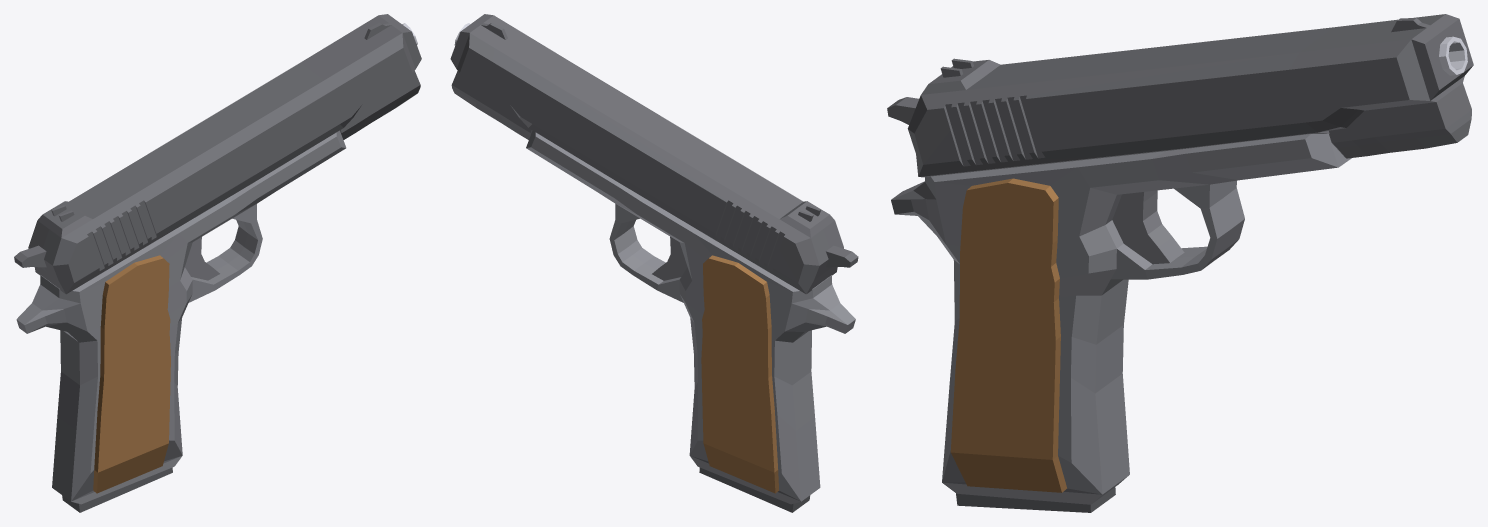
Rendered from pistol.glb.
3 views of the same model, side by side, from view 1: azimuth 30°, elevation 25°; view 2: azimuth 150°, elevation 25°; view 3: azimuth 330°, elevation 25° (orthographic). The views are drawn at different scales.
Parts seen in each view (by area): view 1: Frame, Slide, Magazine, Trigger; view 2: Frame, Slide, Magazine, Trigger; view 3: Frame, Slide, Trigger, Magazine.
Boxes of the visible parts, box(x1,y1,x2,y2) form: Frame: box(16, 23, 417, 504); Slide: box(14, 14, 421, 294); Magazine: box(62, 467, 172, 512); Trigger: box(185, 237, 219, 280); Frame: box(454, 23, 855, 504); Slide: box(450, 14, 858, 294); Magazine: box(699, 467, 810, 512); Trigger: box(652, 236, 687, 280); Frame: box(891, 36, 1467, 504); Slide: box(887, 14, 1473, 177); Trigger: box(1112, 190, 1184, 264); Magazine: box(956, 487, 1115, 512).
Bounding box in the file's own units: 0.2453 × 0.241 × 0.0428.
